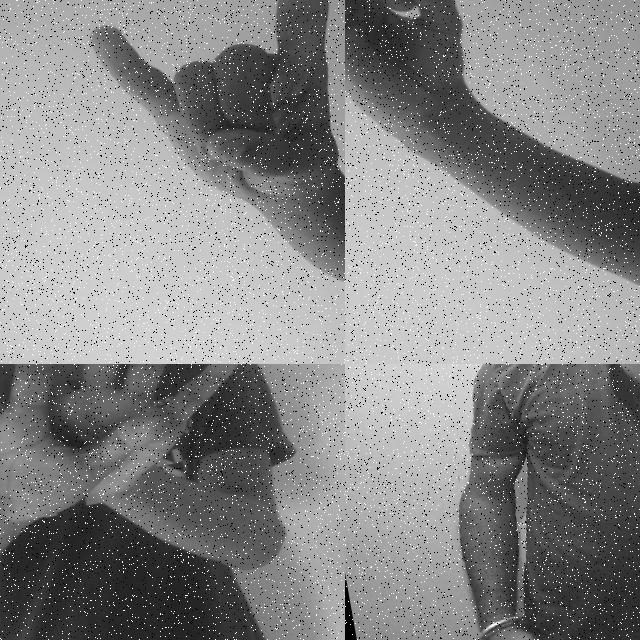Corna: (65, 0, 345, 267), (345, 0, 496, 176)
Moutza: (0, 364, 267, 536), (0, 364, 183, 583)
